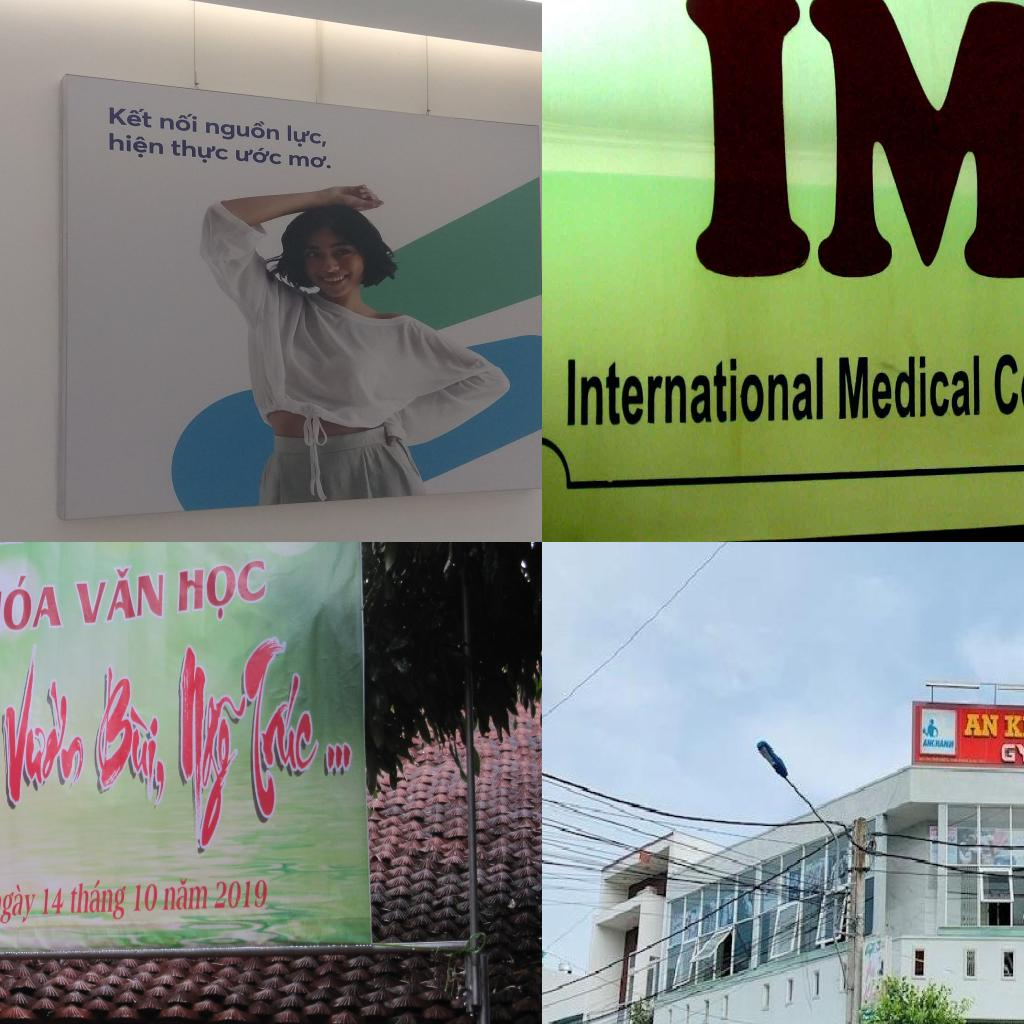text: (680, 0, 1024, 286), (240, 631, 358, 832), (565, 352, 827, 431), (176, 642, 254, 862), (0, 641, 94, 814), (90, 664, 169, 815), (836, 351, 982, 424), (174, 555, 268, 629), (70, 560, 167, 628), (0, 570, 66, 649), (69, 876, 131, 924), (204, 116, 280, 143), (170, 134, 231, 166), (106, 128, 166, 160), (162, 875, 210, 912), (0, 881, 39, 925), (106, 102, 154, 130), (283, 121, 329, 149), (157, 108, 201, 135), (234, 144, 284, 166), (132, 880, 159, 914), (964, 716, 1000, 740), (40, 885, 66, 917), (1005, 708, 1024, 744), (1000, 744, 1024, 766), (933, 737, 955, 749), (922, 738, 934, 747)
